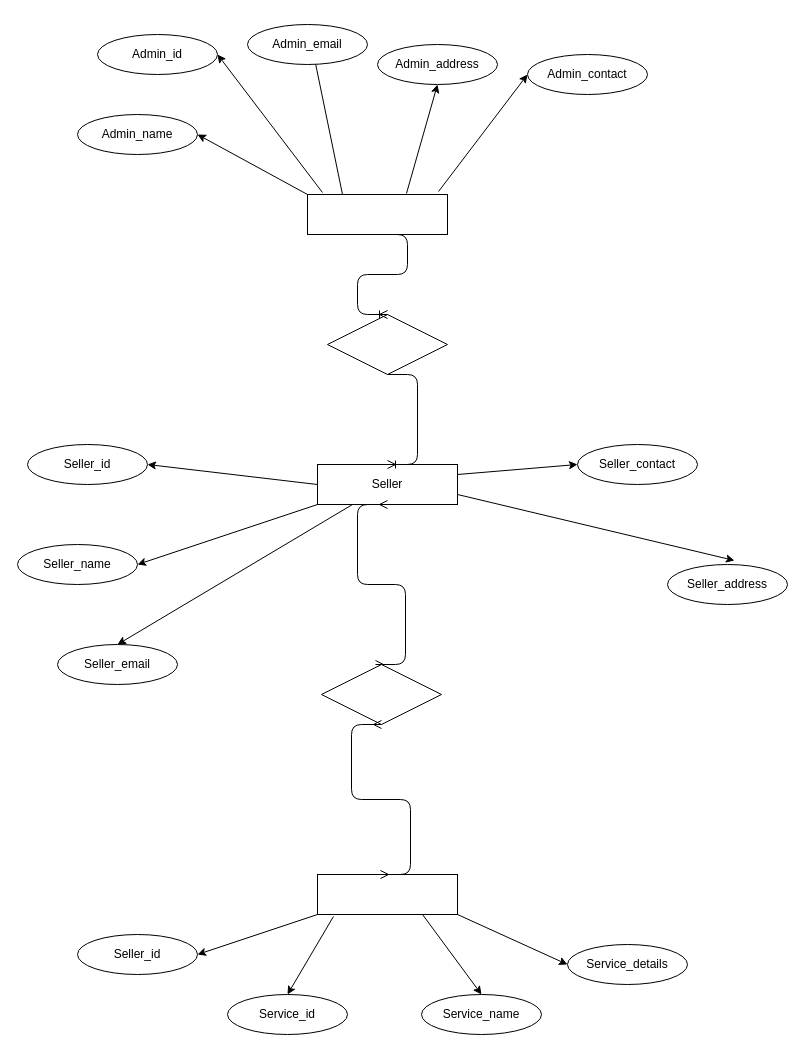
The diagram is 805 pixels wide and 1052 high, and some of its shapes have lost their labels. The centre of each missing label's shape, as x and y in pixels:
"Add" belongs at point (387, 344).
"Admin" belongs at point (377, 214).
"Has" belongs at point (381, 694).
"SellerAds" belongs at point (387, 894).
